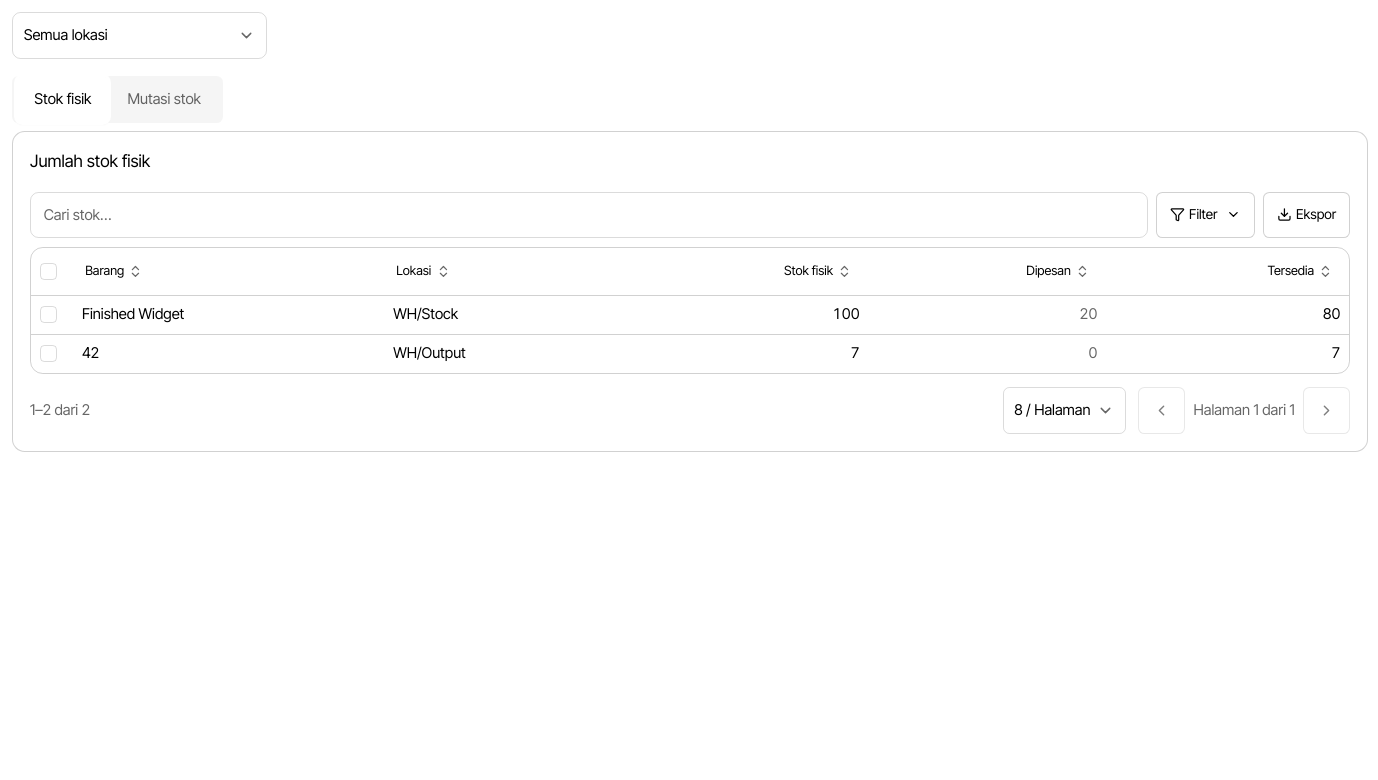
Test: StockOverviewSection branches › shows the moves empty state
Expected: the text "Finished Widget" is shown, x1=74 y1=295 x2=385 y2=334
Click the tab "Mutasi stok" at point(164, 99), box x1=110 y1=76 x2=219 y2=123
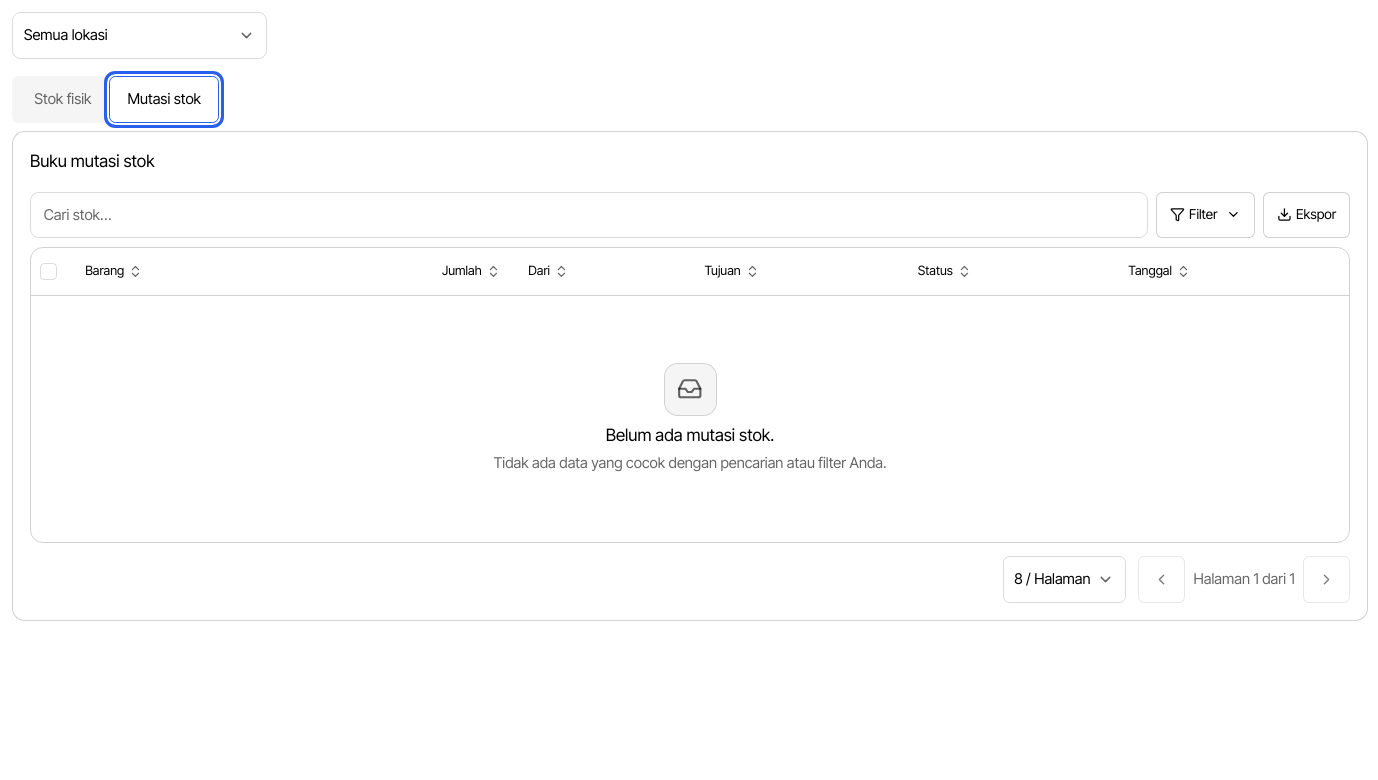
Result: the heading "Belum ada mutasi stok." is shown at x1=606 y1=425 x2=774 y2=445
